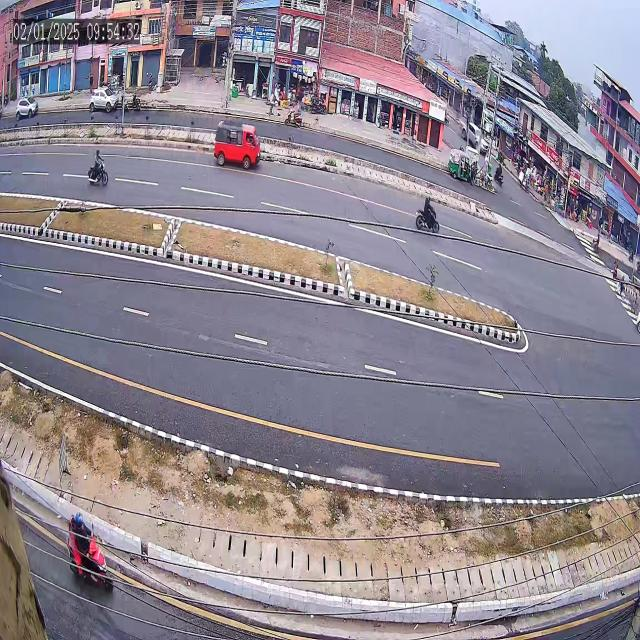motorcycle: (63, 499, 118, 607), (410, 188, 447, 245), (82, 132, 112, 199)
van: (202, 111, 267, 184)
